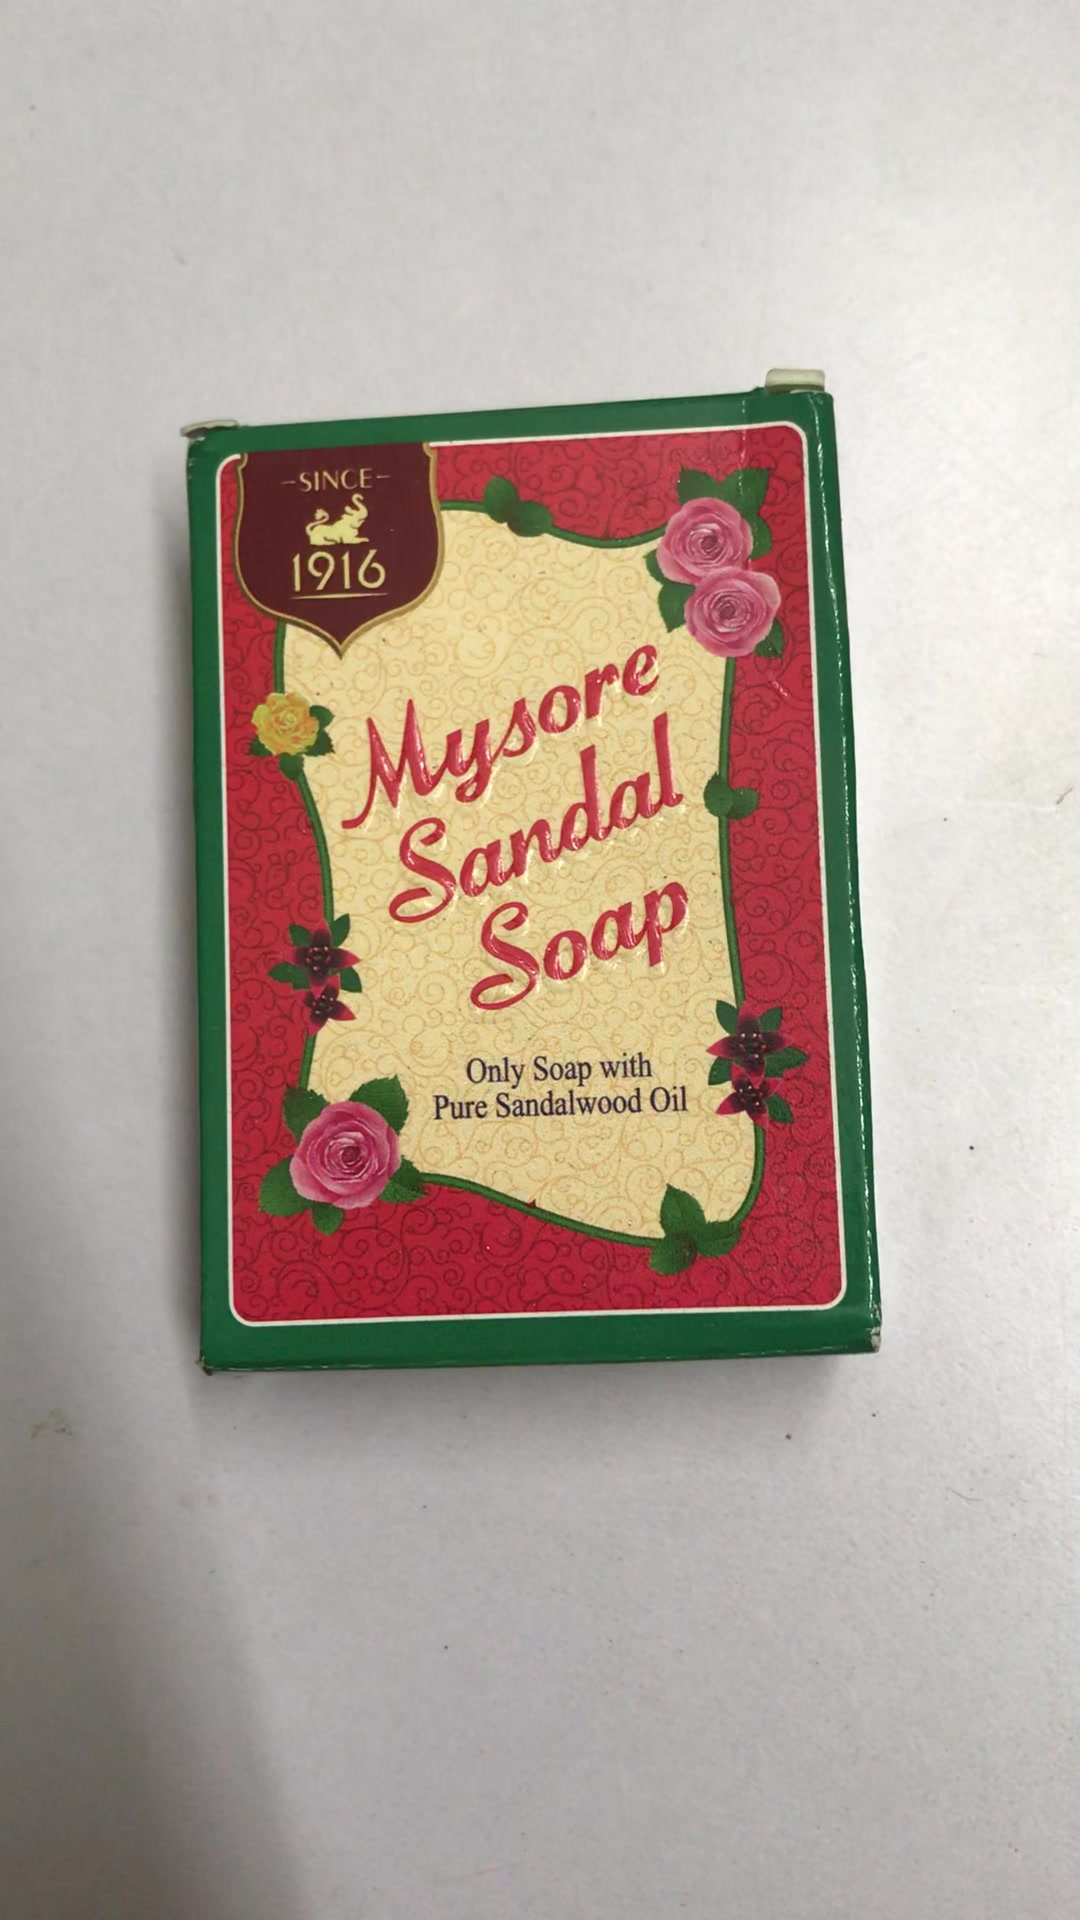mysore sandal soap: (182, 392, 882, 1367)
